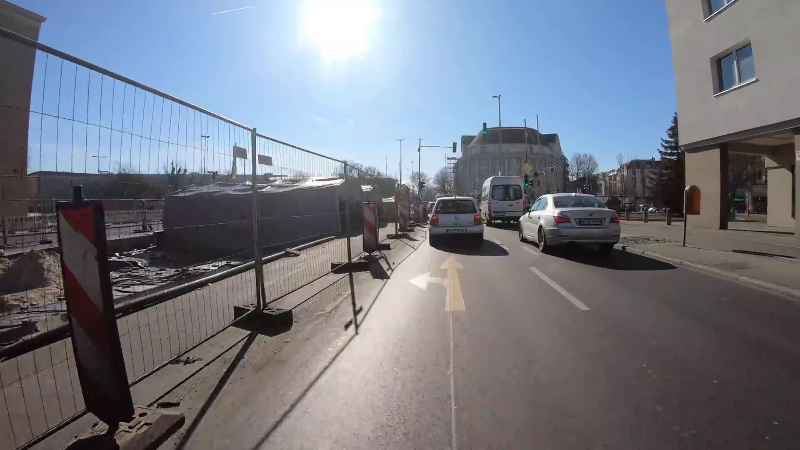Plate: (577, 217, 605, 226)
